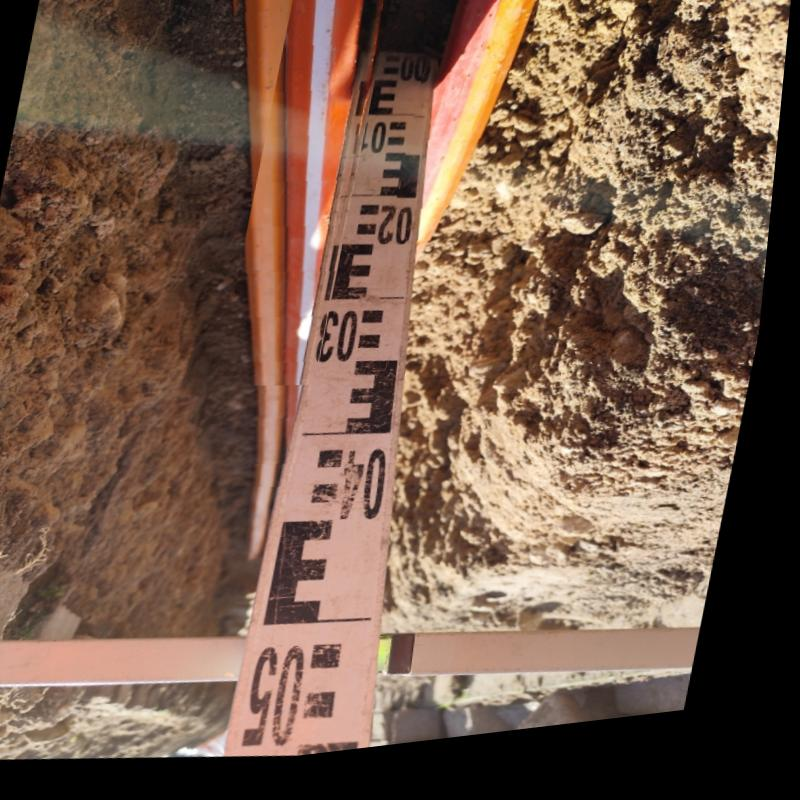Orang-Speednetrohrchen: (246, 0, 304, 494), (422, 0, 535, 252), (295, 0, 365, 393)
